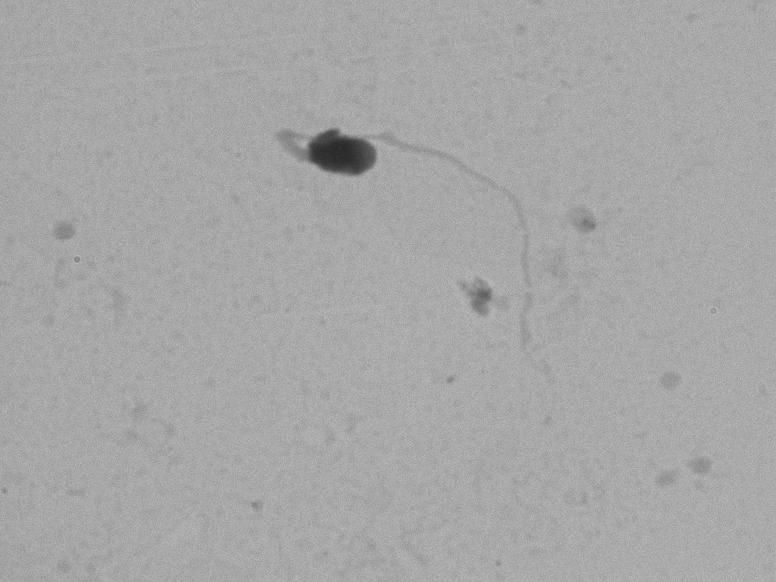Abnormal: (255, 69, 566, 368)
